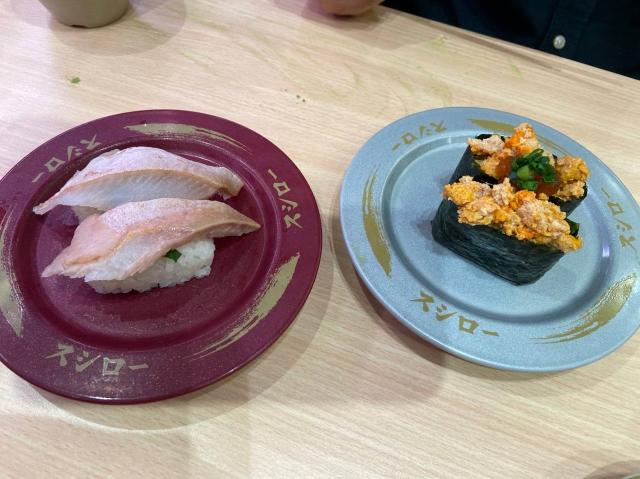janred: (9, 92, 321, 369)
janwhite: (354, 114, 628, 360)
